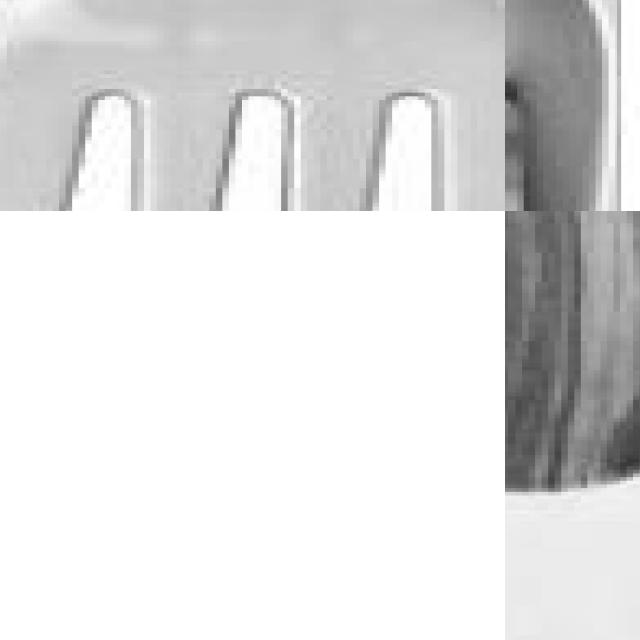forks: (0, 0, 505, 211), (0, 211, 148, 633), (505, 0, 616, 211)
spoons: (505, 211, 640, 521)
